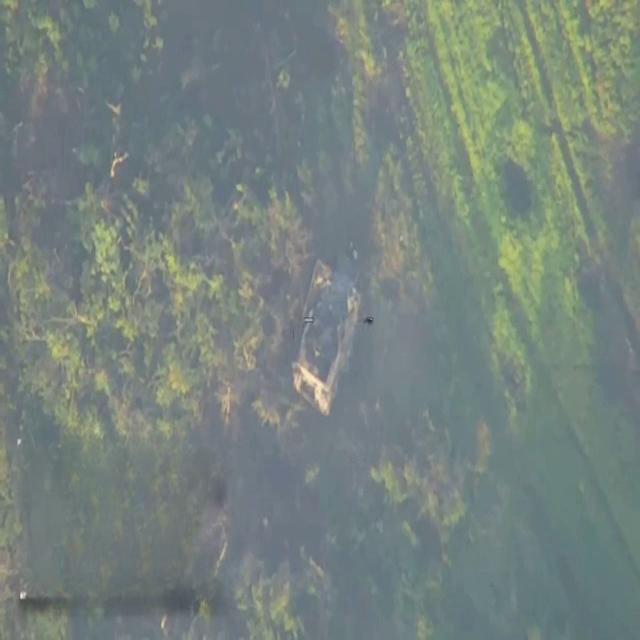Destroyed: (286, 250, 369, 418)
